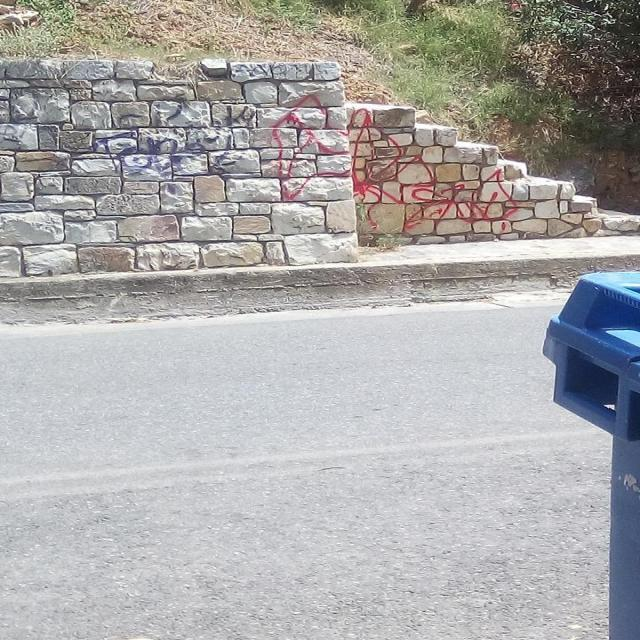nonspitting: (273, 96, 520, 230), (102, 106, 257, 192)
